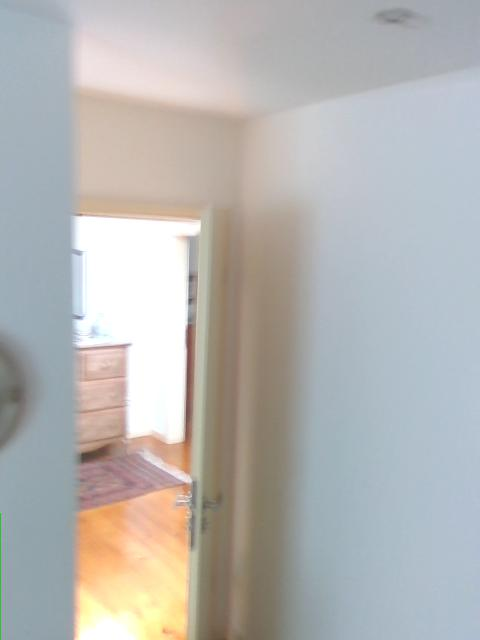semi_door: (72, 202, 232, 639)
